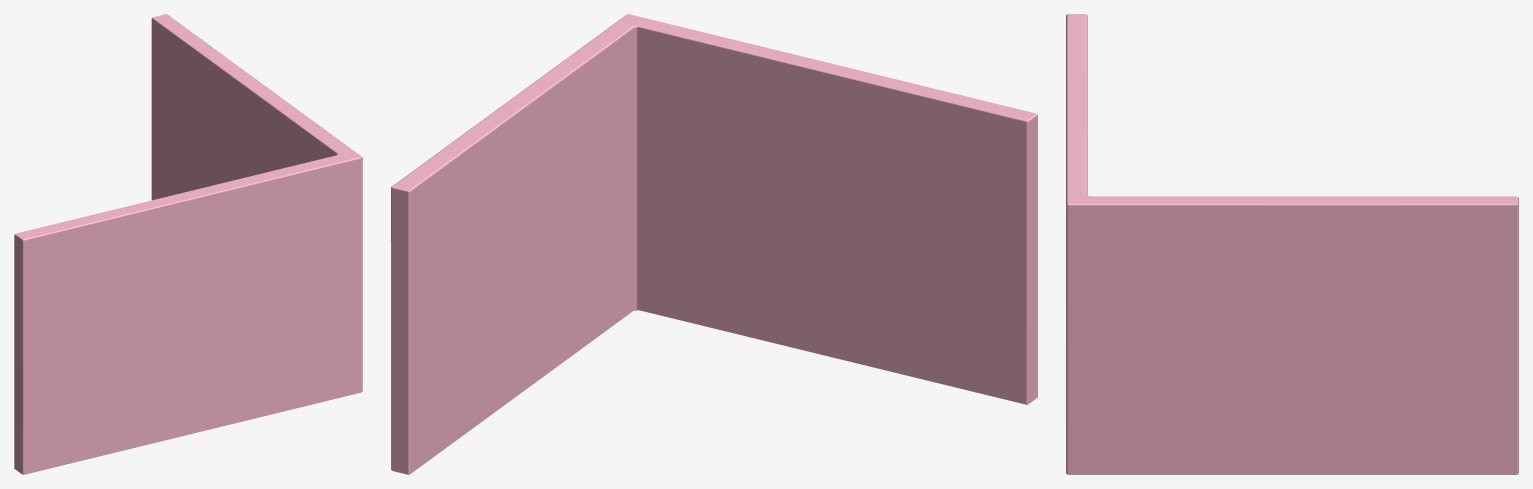
The model's file is wall.fbx.
3 views of the same model, side by side, from view 1: azimuth 30°, elevation 25°; view 2: azimuth 150°, elevation 25°; view 3: azimuth 270°, elevation 25° (orthographic). The views are drawn at different scales.
Visible parts, largest first — view 1: Wall; view 2: Wall; view 3: Wall.
Part boxes in pixels (<box>): Wall: <box>14,14,362,474</box>; Wall: <box>391,14,1037,474</box>; Wall: <box>1066,14,1518,474</box>.
Size of the model in its own units: 756 by 500 by 756.
